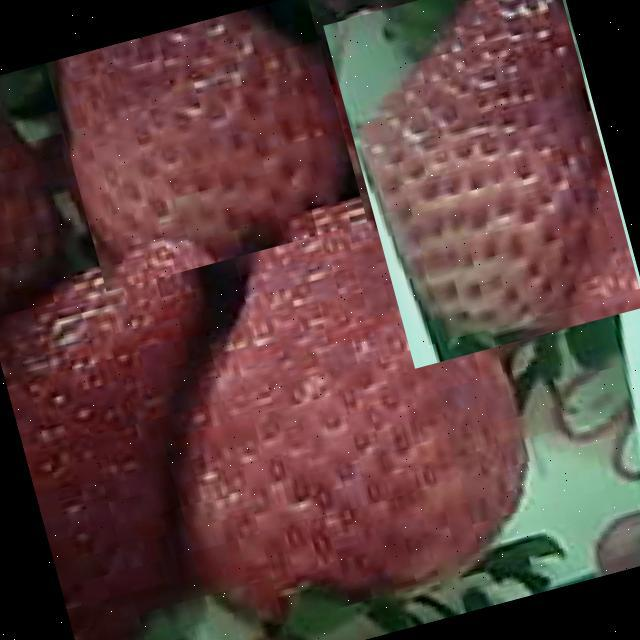ripe: (116, 163, 553, 640), (0, 227, 288, 640), (322, 0, 640, 368), (45, 0, 367, 291)
